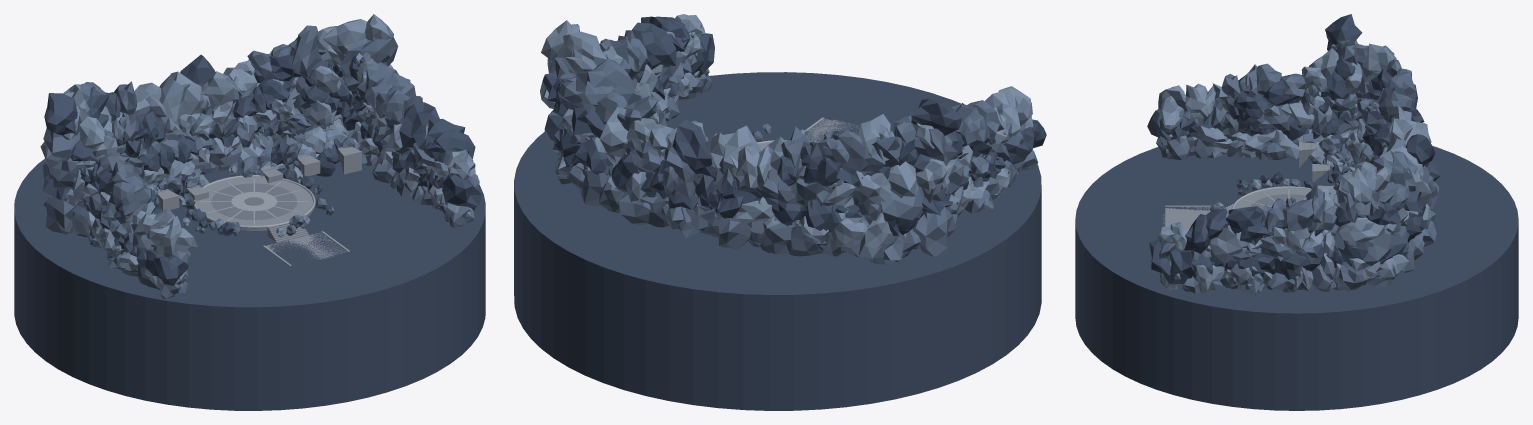
Rendered from 01_Terreno.fbx.
3 views of the same model, side by side, from view 1: azimuth 30°, elevation 25°; view 2: azimuth 150°, elevation 25°; view 3: azimuth 270°, elevation 25° (orthographic). The views are drawn at different scales.
Parts seen in each view (by area): view 1: Base_Rocha, Praca_Piso, Praca_A1, MurB_82_8, MurB_314_6, MurLat1_6_5, MurB_282_6, MurLat1_0_2, MurB_306_7, MurB_186_4, MurB_82_0, Patamar_Entrada (+31 smaller); view 2: Base_Rocha, MurB_210_5, MurB_82_0, MurB_282_6, MurLat1_6_5, MurB_82_8, MurB_114_6, MurB_90_3, MurB_106_4, MurB_306_7, MurB_82_6, MurB_258_4 (+41 smaller); view 3: Base_Rocha, MurB_314_7, MurB_82_8, MurB_314_4, MurLat1_4_4, MurLat1_11_6, MurLat1_1_2, MurLat1_6_5, MurB_106_7, MurLat-1_2_4, MurB_306_3, MurLat1_2_5 (+28 smaller).
Boxes of the visible parts, bbox=[...] form: Base_Rocha: bbox=[14, 159, 485, 410]; Praca_Piso: bbox=[194, 177, 313, 231]; Praca_A1: bbox=[211, 183, 296, 219]; MurB_82_8: bbox=[44, 93, 81, 135]; MurB_314_6: bbox=[340, 35, 398, 76]; MurLat1_6_5: bbox=[399, 102, 439, 147]; MurB_282_6: bbox=[291, 25, 318, 78]; MurLat1_0_2: bbox=[442, 174, 482, 210]; MurB_306_7: bbox=[323, 19, 367, 60]; MurB_186_4: bbox=[159, 75, 190, 122]; MurB_82_0: bbox=[45, 196, 74, 234]; Patamar_Entrada: bbox=[266, 232, 347, 259]; Base_Rocha: bbox=[514, 72, 1041, 410]; MurB_210_5: bbox=[672, 119, 712, 176]; MurB_82_0: bbox=[912, 206, 955, 256]; MurB_282_6: bbox=[576, 59, 635, 99]; MurLat1_6_5: bbox=[632, 22, 676, 69]; MurB_82_8: bbox=[911, 99, 962, 135]; MurB_114_6: bbox=[831, 130, 885, 172]; MurB_90_3: bbox=[880, 182, 923, 224]; MurB_106_4: bbox=[849, 171, 890, 205]; MurB_306_7: bbox=[557, 31, 606, 73]; MurB_82_6: bbox=[893, 116, 957, 161]; MurB_258_4: bbox=[600, 107, 628, 157]; Base_Rocha: bbox=[1075, 146, 1518, 410]; MurB_314_7: bbox=[1341, 168, 1372, 215]; MurB_82_8: bbox=[1325, 14, 1362, 55]; MurB_314_4: bbox=[1339, 217, 1385, 242]; MurLat1_4_4: bbox=[1208, 227, 1241, 264]; MurLat1_11_6: bbox=[1282, 198, 1314, 231]; MurLat1_1_2: bbox=[1170, 248, 1194, 284]; MurLat1_6_5: bbox=[1226, 206, 1262, 233]; MurB_106_7: bbox=[1362, 43, 1396, 76]; MurLat-1_2_4: bbox=[1185, 83, 1208, 123]; MurB_306_3: bbox=[1355, 229, 1391, 265]; MurLat1_2_5: bbox=[1184, 214, 1210, 253].
Bounding box in the file's own units: 33000 × 18432 × 33000.
